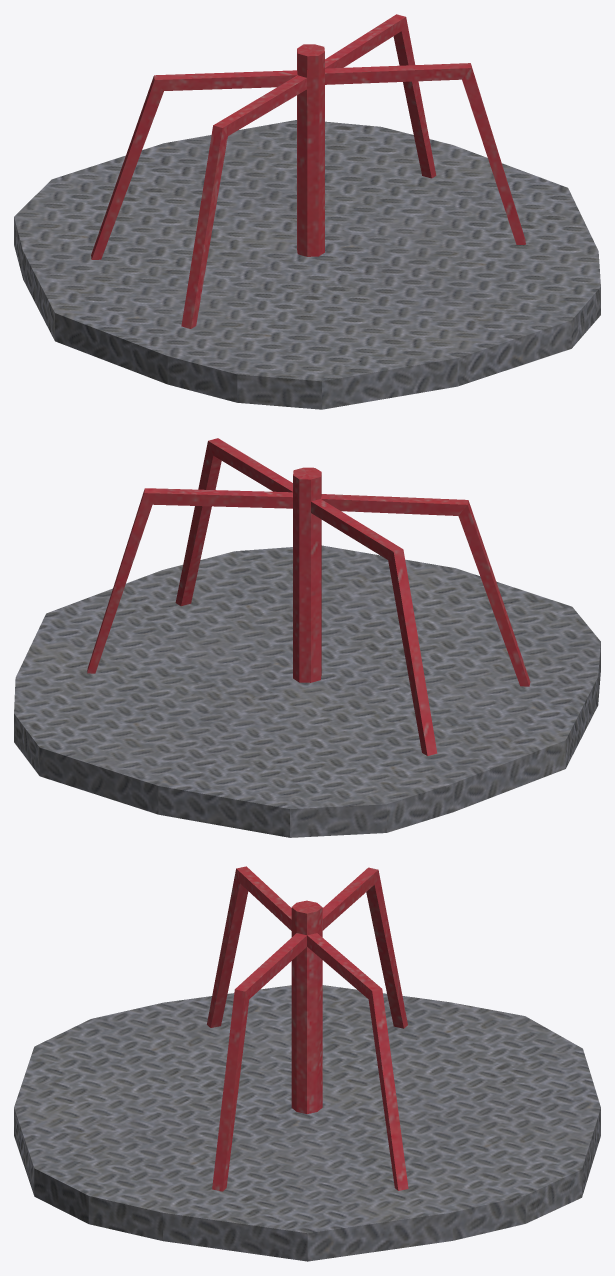
Rendered from Roundabout.fbx.
3 renders of one model, top to bottom at view 1: azimuth 30°, elevation 25°; view 2: azimuth 150°, elevation 25°; view 3: azimuth 270°, elevation 25°, orthographic.
Parts seen in each view (by area): view 1: Cylinder; view 2: Cylinder; view 3: Cylinder.
Boxes of the visible parts, x1=… form: Cylinder: x1=14, y1=14, x2=600, y2=409; Cylinder: x1=14, y1=438, x2=600, y2=837; Cylinder: x1=14, y1=866, x2=600, y2=1261.
Bounding box in the file's own units: 227 × 107 × 225.
Materials: 1 (1 with a texture image).
